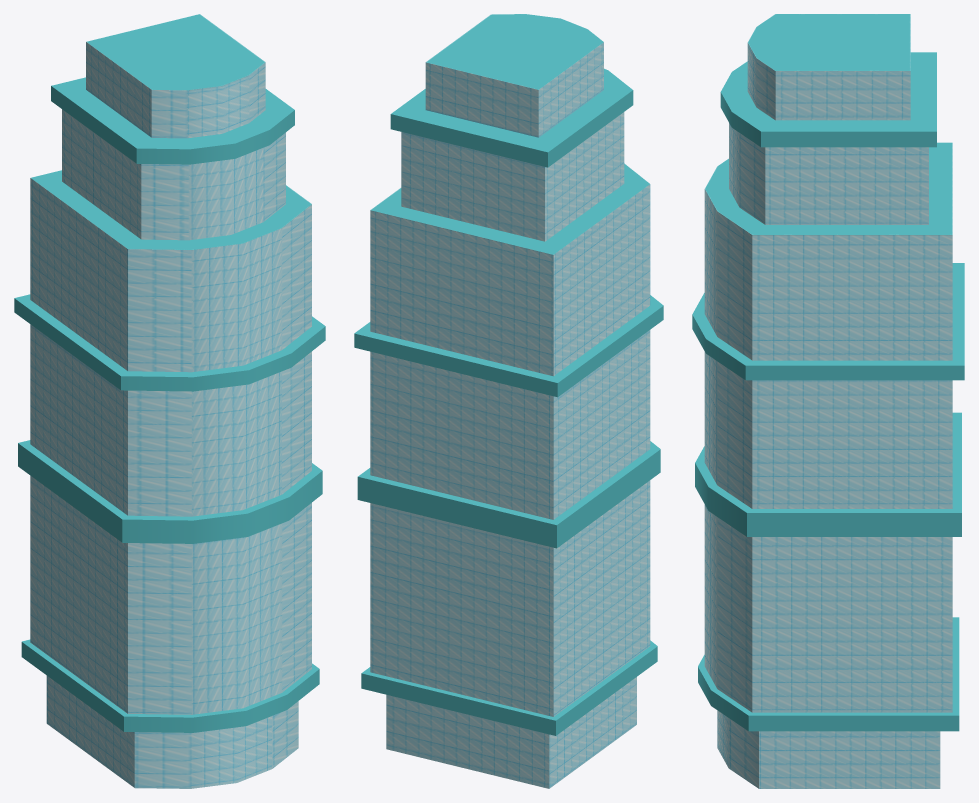
Rendered from bina5.fbx.
The picture shows the model from 3 angles, left to right: view 1: azimuth 30°, elevation 25°; view 2: azimuth 150°, elevation 25°; view 3: azimuth 270°, elevation 25°; orthographic projection. The views are drawn at different scales.
Visible parts, largest first — view 1: bina5_; view 2: bina5_; view 3: bina5_.
Part boxes in pixels (x1,y1,x2,y2): bina5_: (14, 14, 325, 788); bina5_: (354, 14, 663, 788); bina5_: (692, 14, 964, 788).
Bounding box in the file's own units: 36.03 × 115 × 40.37.
